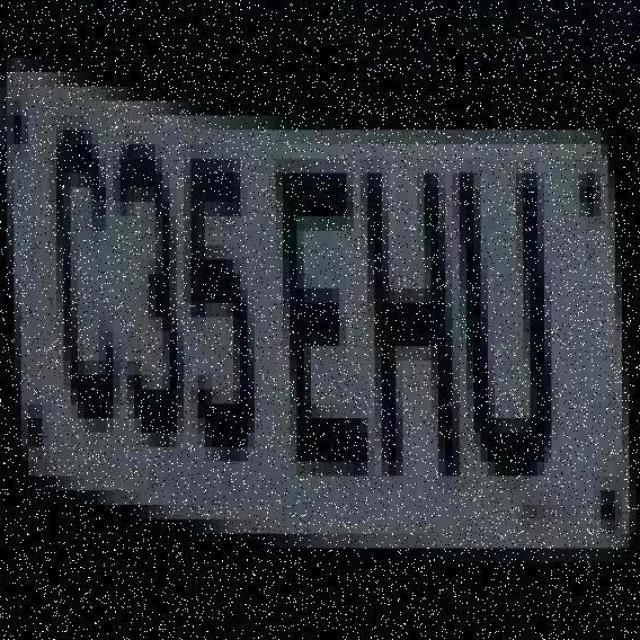license-plate: (17, 79, 635, 595)
